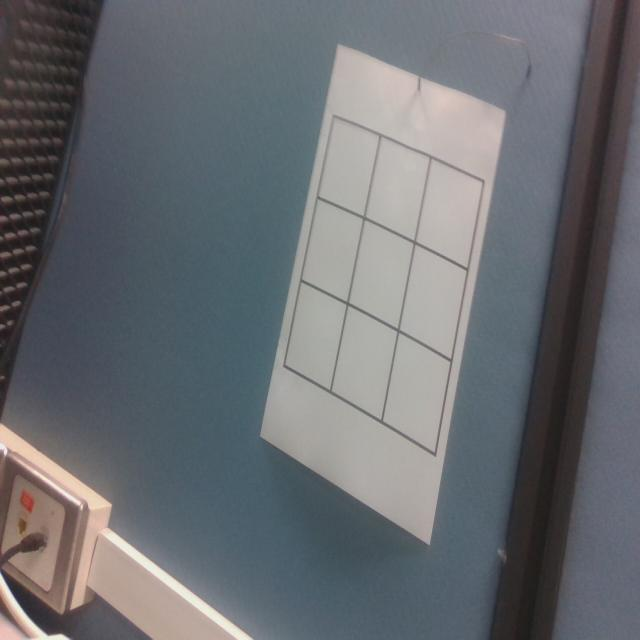null: (386, 333, 450, 455), (402, 242, 467, 355), (334, 306, 395, 421), (351, 219, 414, 329), (419, 159, 483, 267), (286, 281, 346, 393), (303, 198, 363, 301), (368, 136, 428, 238), (321, 116, 378, 214)
table: (266, 106, 494, 466)
